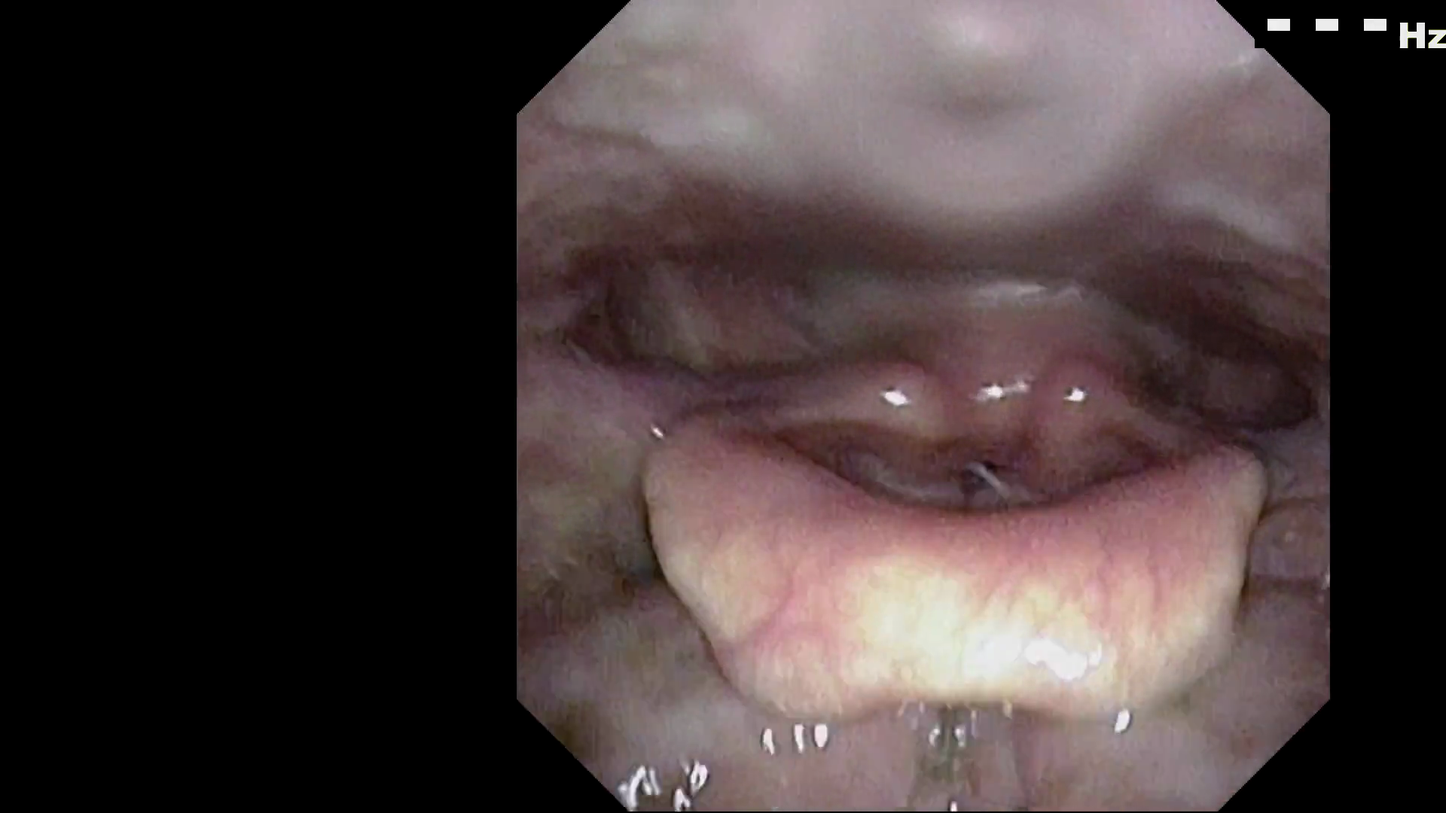epiglottis: (657, 452, 1268, 726)
trachea: (919, 419, 1044, 543), (945, 492, 1028, 582)
